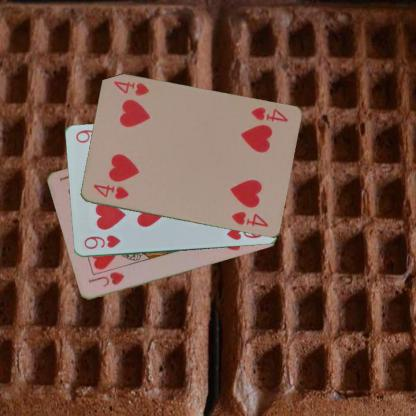4h: (249, 104, 290, 124), (90, 182, 130, 201)
9h: (81, 232, 122, 251)
Jh: (86, 269, 126, 289)
